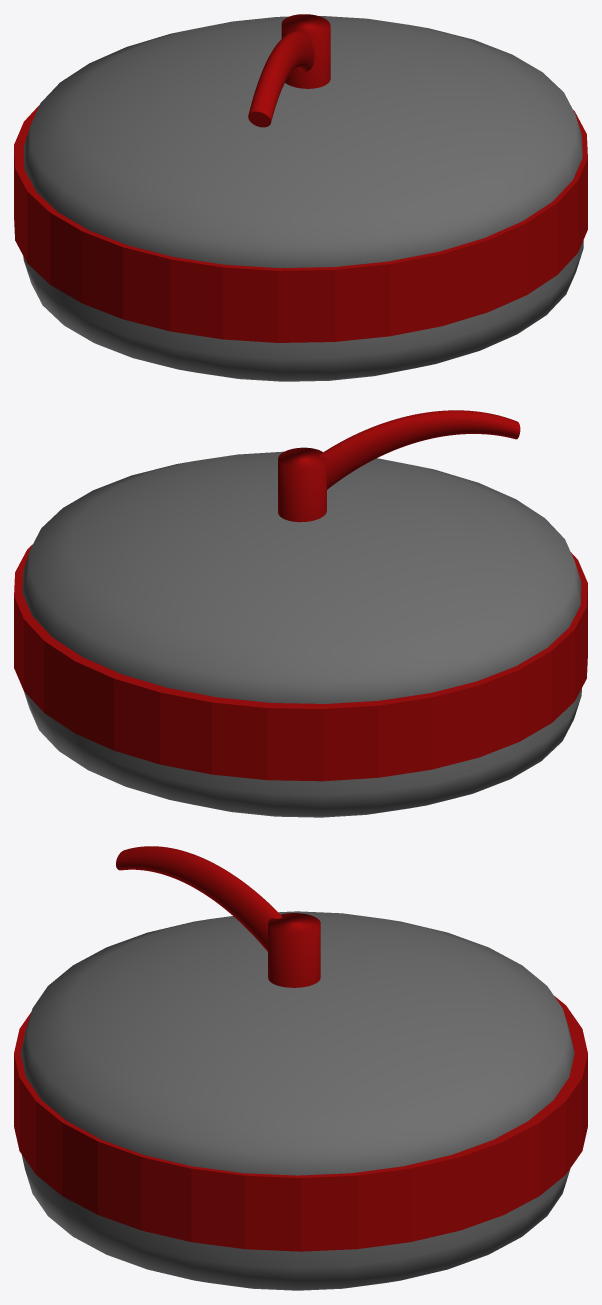
The model's file is red_rock.glb.
The picture shows the model from 3 angles, top to bottom: view 1: azimuth 30°, elevation 25°; view 2: azimuth 150°, elevation 25°; view 3: azimuth 270°, elevation 25°; orthographic projection.
Parts seen in each view (by area): view 1: Sphere, Cylinder.002, Cylinder, Cylinder.001; view 2: Sphere, Cylinder.002, Cylinder, Cylinder.001; view 3: Sphere, Cylinder.002, Cylinder, Cylinder.001.
Boxes of the visible parts, bbox=[...] form: Sphere: bbox=[23, 16, 583, 381]; Cylinder.002: bbox=[14, 105, 587, 342]; Cylinder: bbox=[248, 31, 314, 127]; Cylinder.001: bbox=[281, 14, 330, 88]; Sphere: bbox=[22, 451, 581, 817]; Cylinder.002: bbox=[14, 544, 587, 781]; Cylinder: bbox=[319, 410, 520, 489]; Cylinder.001: bbox=[278, 447, 326, 522]; Sphere: bbox=[20, 911, 574, 1290]; Cylinder.002: bbox=[14, 996, 587, 1251]; Cylinder: bbox=[116, 846, 281, 951]; Cylinder.001: bbox=[268, 913, 320, 987].
Bounding box in the file's own units: 2.39 × 1.39 × 2.32.
